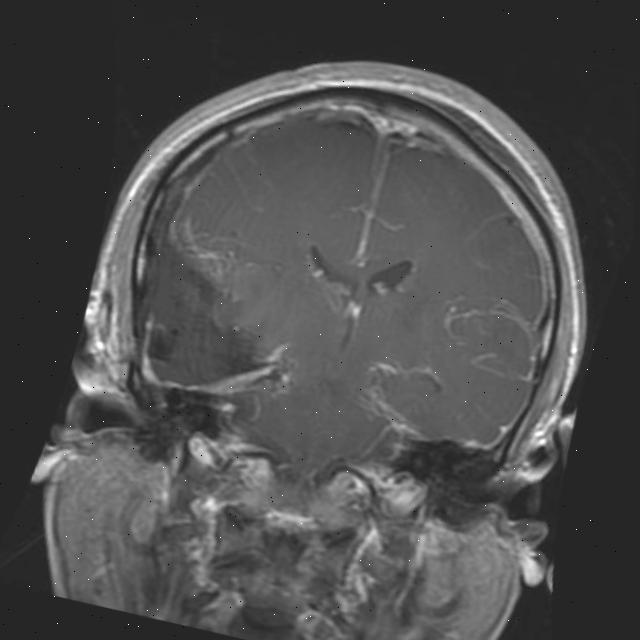Glioma: (111, 236, 291, 405)
